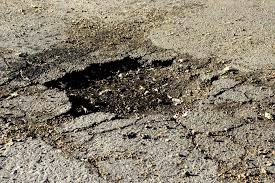pothole: (41, 53, 209, 132)
